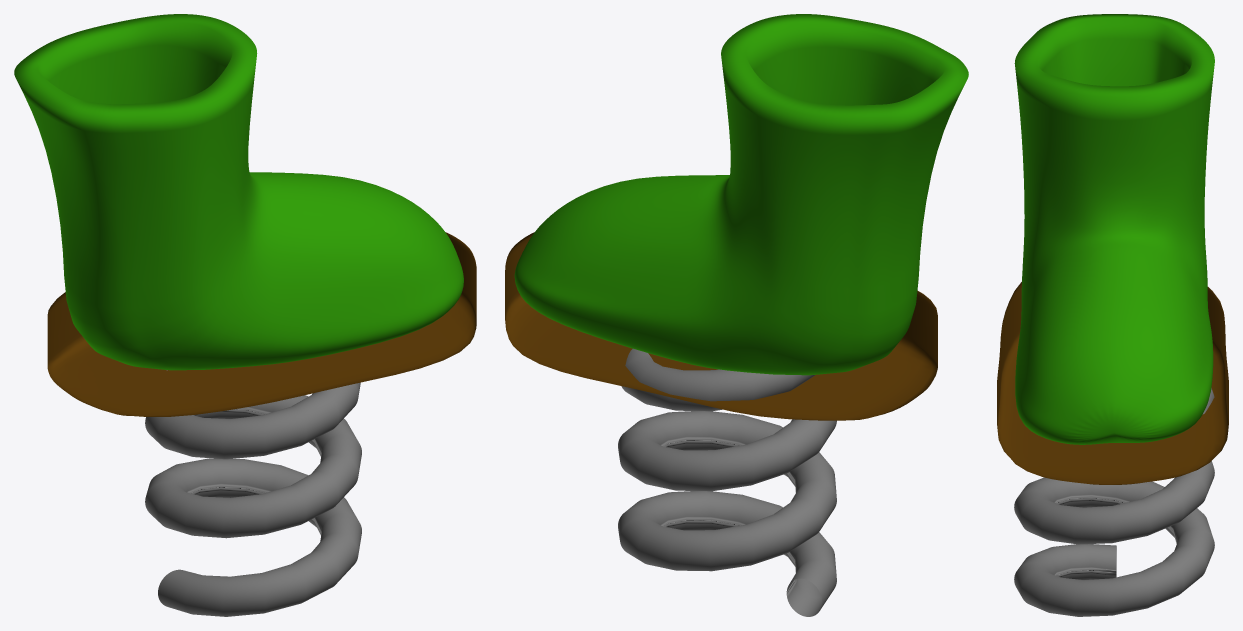
The model's file is Botte.fbx.
3 renders of one model, left to right at view 1: azimuth 30°, elevation 25°; view 2: azimuth 150°, elevation 25°; view 3: azimuth 270°, elevation 25°, orthographic. The views are drawn at different scales.
Parts seen in each view (by area): view 1: Cylinder.001, Torus, Cube; view 2: Cylinder.001, Torus, Cube; view 3: Cylinder.001, Torus, Cube.
Part boxes in pixels (bbox=[...]): Cylinder.001: bbox=[14, 14, 463, 370]; Torus: bbox=[145, 370, 361, 616]; Cube: bbox=[47, 232, 476, 416]; Cylinder.001: bbox=[514, 14, 968, 375]; Torus: bbox=[618, 348, 836, 616]; Cube: bbox=[505, 232, 937, 420]; Cylinder.001: bbox=[1014, 14, 1214, 444]; Torus: bbox=[1014, 388, 1214, 616]; Cube: bbox=[997, 282, 1228, 484].
Size of the model in its own units: 340 by 427 by 174.
